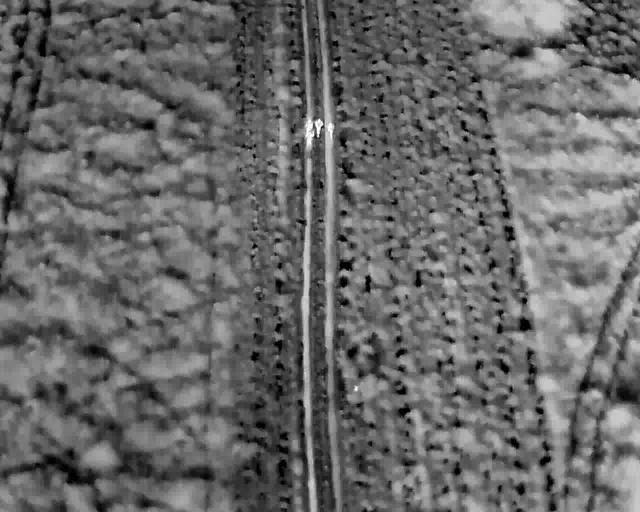person: (313, 117, 325, 139), (303, 129, 315, 148), (303, 117, 315, 136), (326, 120, 337, 139)
